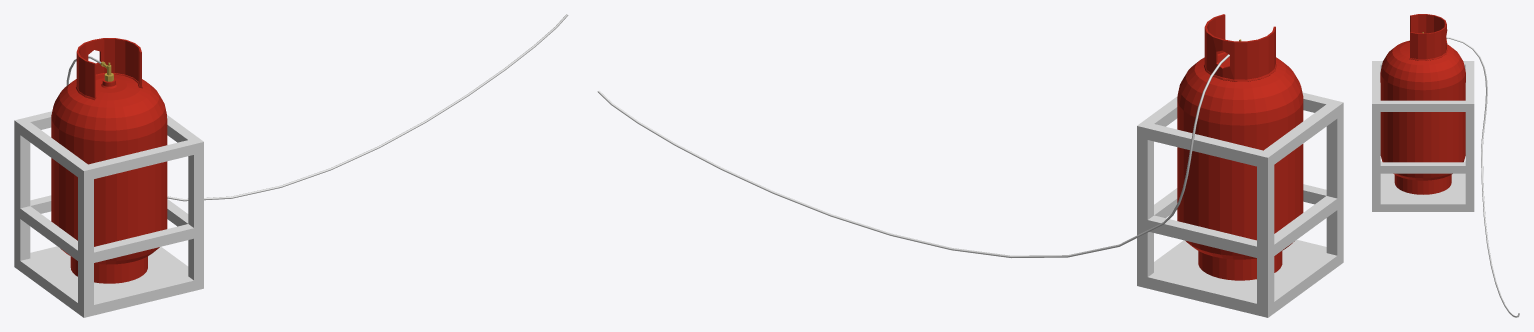
The model's file is gasBallon.fbx.
3 views of the same model, side by side, from view 1: azimuth 30°, elevation 25°; view 2: azimuth 150°, elevation 25°; view 3: azimuth 270°, elevation 25° (orthographic). The views are drawn at different scales.
Parts seen in each view (by area): view 1: stoika, gasBaloon, BezierCurve; view 2: stoika, gasBaloon, BezierCurve; view 3: gasBaloon, stoika, BezierCurve.
Boxes of the visible parts, x1,y1,x2,y2 form: stoika: (14,111,203,317); gasBaloon: (51,38,167,283); BezierCurve: (66,14,568,201); stoika: (1137,92,1343,317); gasBaloon: (1177,14,1303,280); BezierCurve: (597,54,1229,258); gasBaloon: (1380,14,1465,194); stoika: (1372,61,1474,211); BezierCurve: (1446,37,1519,317).
Bounding box in the file's own units: 292 × 108 × 86.83.
